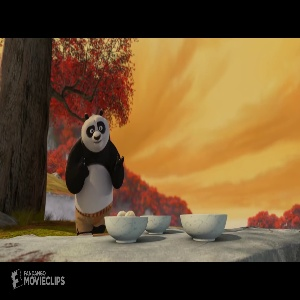po: (65, 109, 126, 234)
